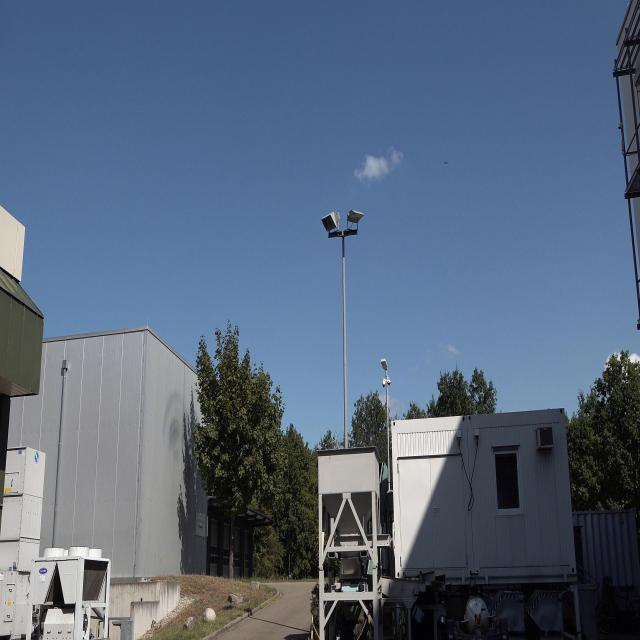drone: (440, 155, 452, 171)
